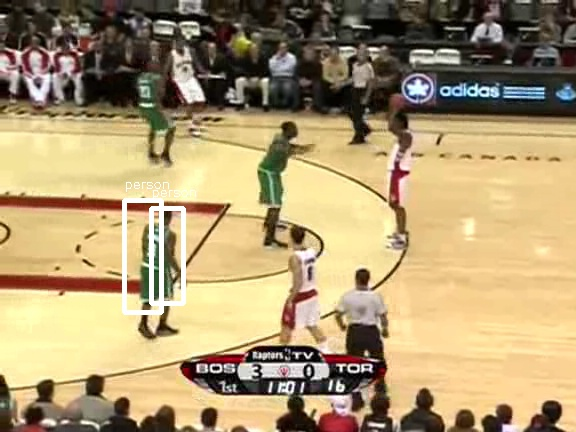person: (140, 227, 174, 308), (139, 227, 173, 308), (141, 227, 175, 308), (140, 226, 174, 307), (140, 228, 174, 309)
target_negative: (242, 70, 463, 243), (122, 148, 212, 359), (237, 257, 353, 397), (147, 86, 182, 350), (517, 182, 546, 412), (471, 187, 527, 240)
